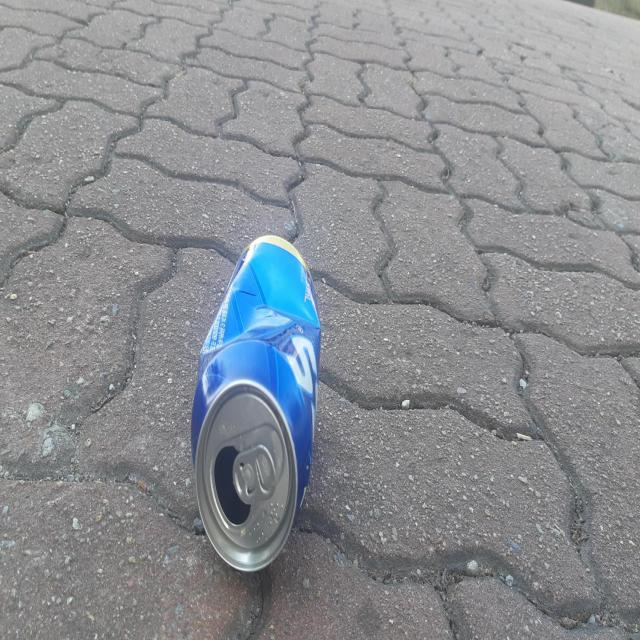can: (191, 234, 321, 571)
